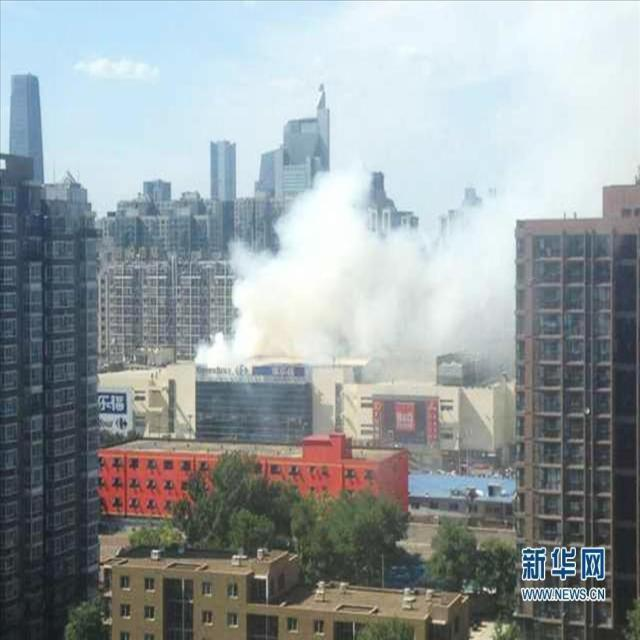Smoke: (194, 166, 570, 395)
